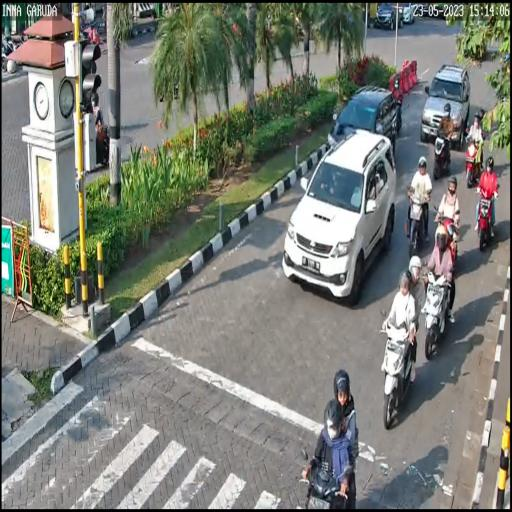mobil: (283, 125, 390, 302), (327, 81, 400, 163), (417, 63, 474, 151)
motor: (378, 307, 420, 431), (426, 266, 456, 362), (404, 186, 432, 259), (471, 184, 500, 253), (436, 206, 462, 271), (430, 124, 451, 182), (464, 128, 483, 186)
